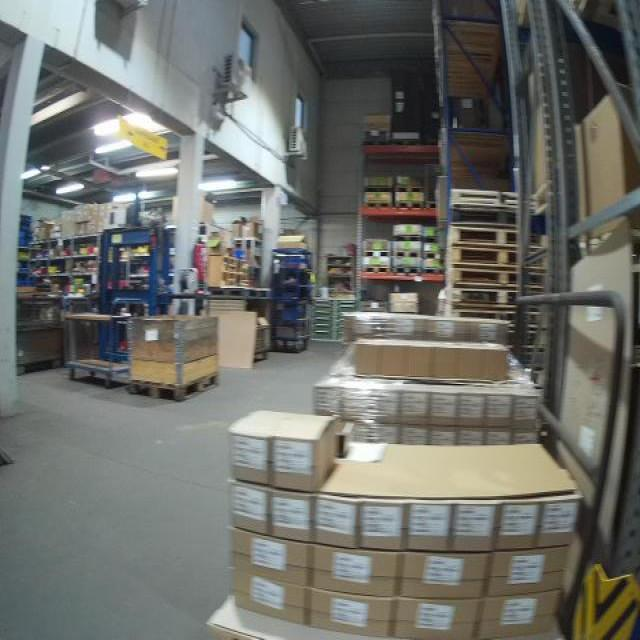pallet: (130, 368, 223, 404), (448, 261, 518, 285), (449, 223, 518, 246), (451, 298, 518, 317), (448, 246, 518, 261), (451, 285, 518, 298), (393, 249, 423, 259), (395, 184, 424, 193), (394, 200, 425, 208), (392, 234, 423, 242), (392, 266, 423, 274), (364, 185, 393, 193), (363, 250, 392, 258), (362, 266, 392, 273), (362, 139, 391, 146), (365, 202, 393, 209), (424, 267, 447, 275), (392, 140, 422, 146), (424, 251, 446, 259), (423, 236, 441, 243), (426, 201, 438, 208)
stillage: (17, 291, 63, 372)
